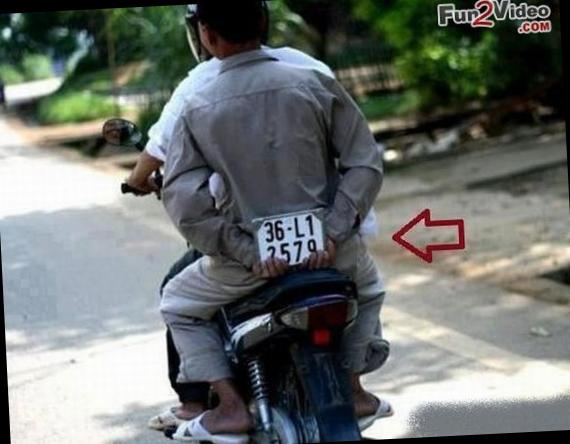plate: (258, 211, 328, 264)
